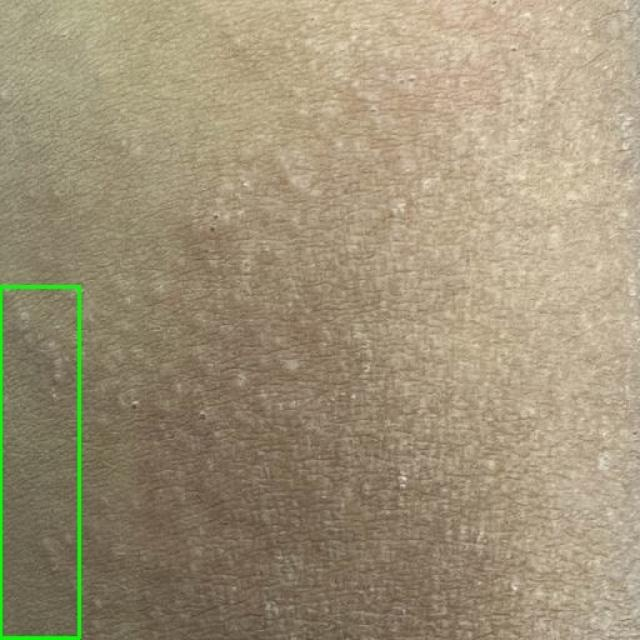Contact Dermatitis: (0, 286, 80, 639)
